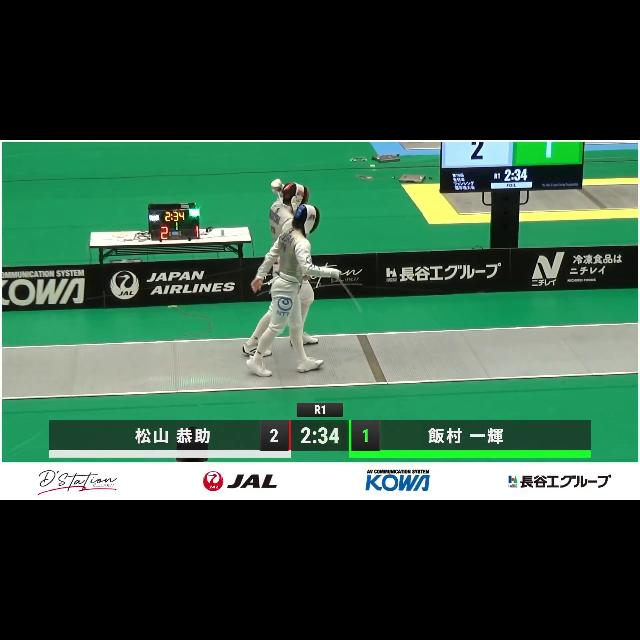blade: (328, 270, 374, 318), (268, 179, 286, 229)
